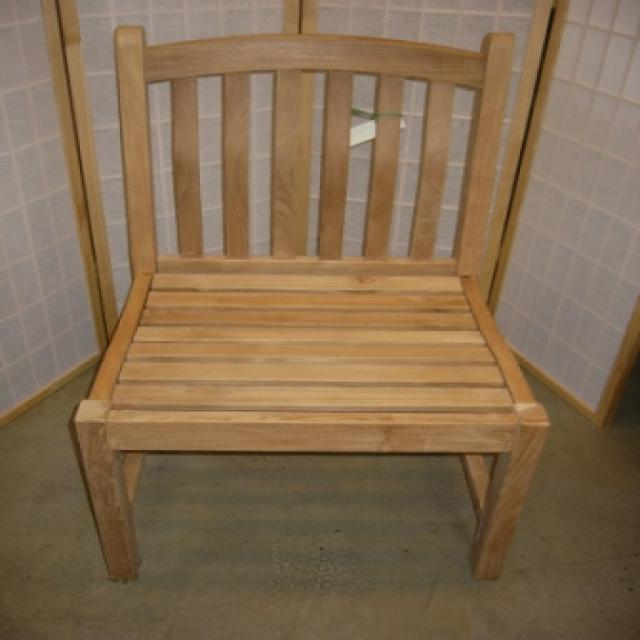chair: (68, 23, 550, 583)
